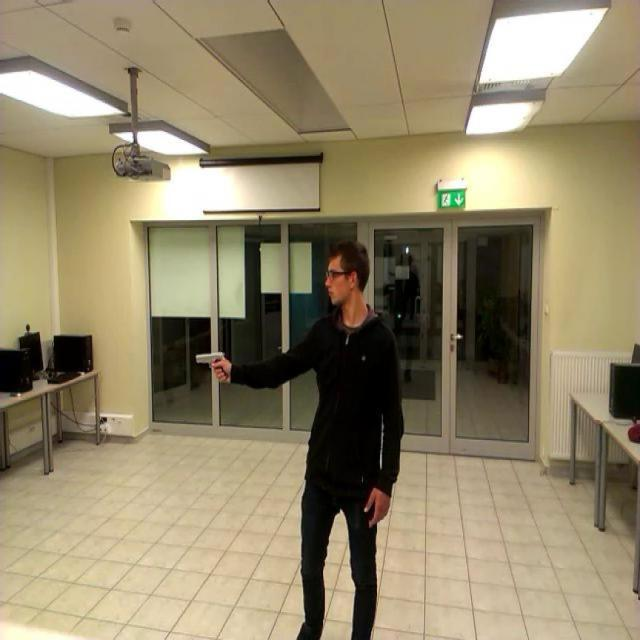pistol: (195, 350, 227, 378)
